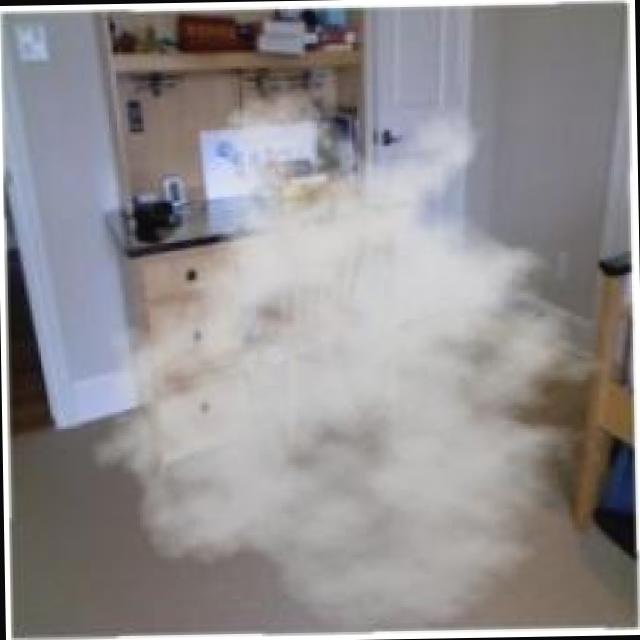smoke: (213, 195, 529, 520)
